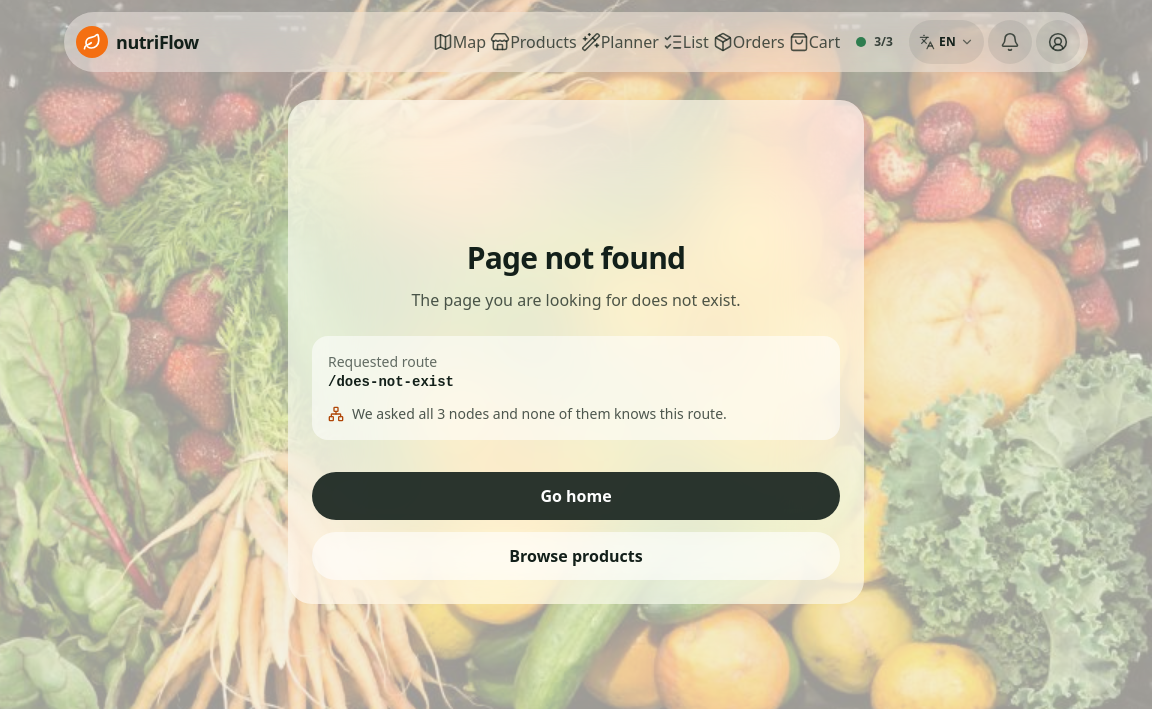
Test: Control views › shows a 404 page with the requested route and ways out
Expected: the heading "Page not found" is shown, [467,237,685,278]
Expected: the text with test id "requested-path" reads "/does-not-exist", [328,374,454,390]
Click the link "Browse products" at (576, 556), box [312,532,840,580]
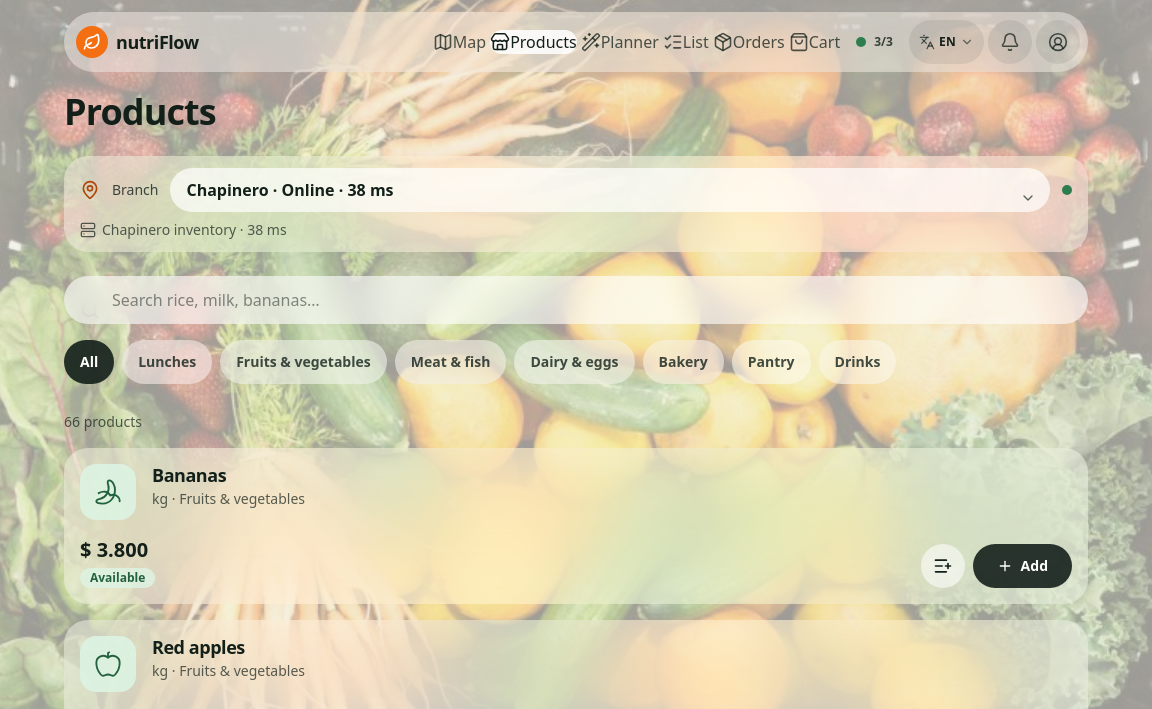
Now the heading "Products" is shown, box [64,87,216,136]
